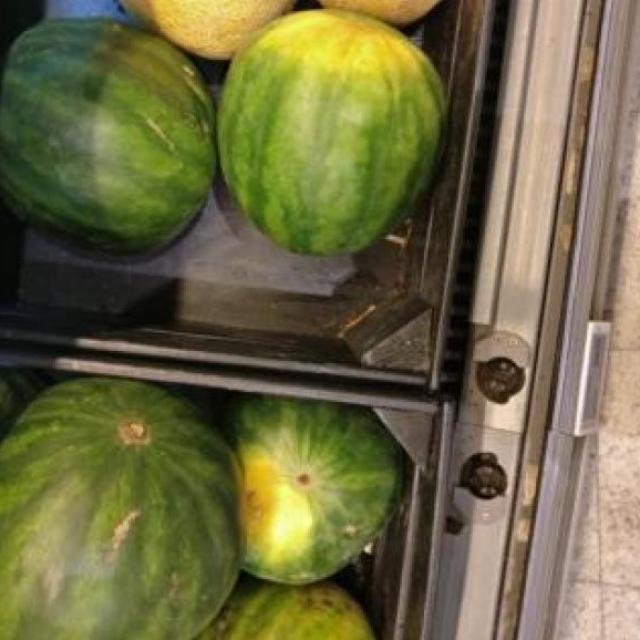Cantaloupe: (101, 0, 300, 58), (302, 0, 471, 25)
Watermelon: (0, 380, 249, 640), (214, 11, 450, 255), (0, 16, 221, 254), (230, 400, 401, 583)
